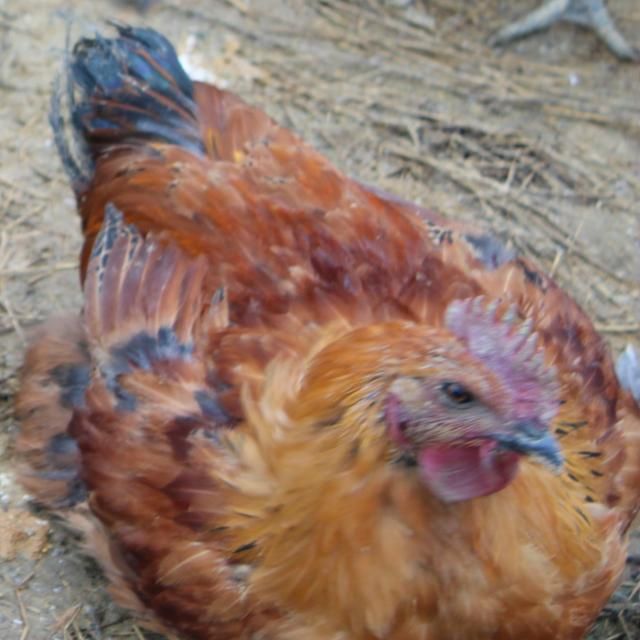hen: (15, 26, 637, 640)
